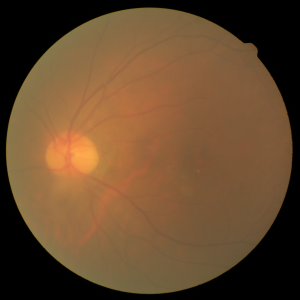cataract: (31, 92, 236, 213)
